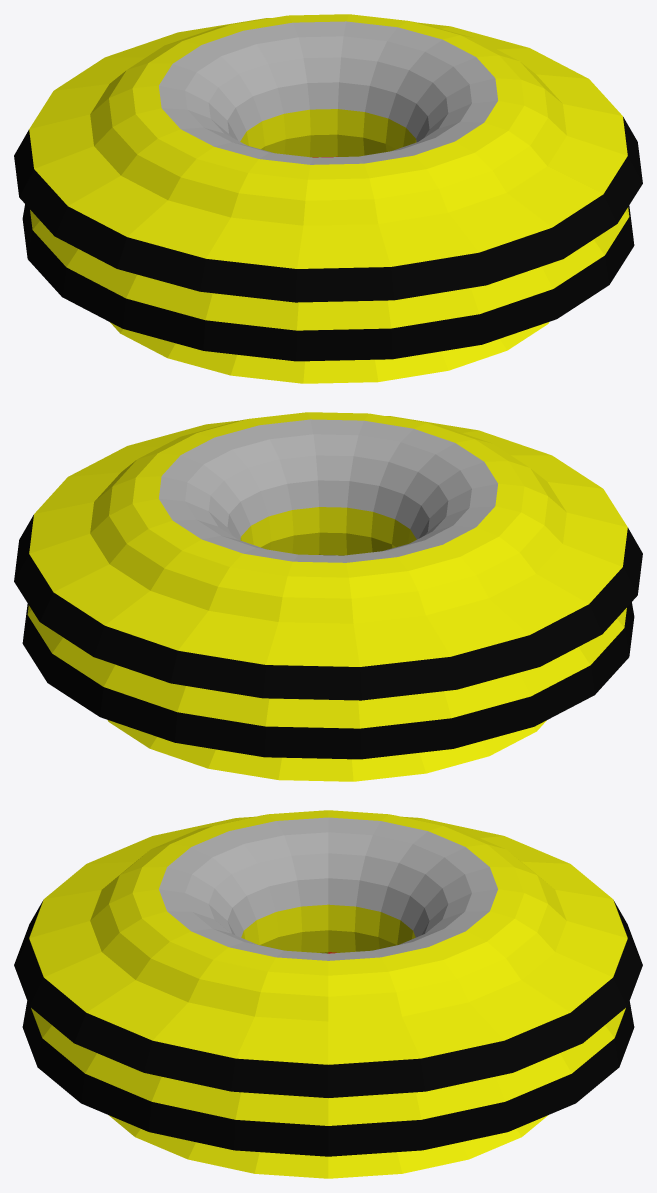
File: Spawn33.fbx
3 views of the same model, one above another, from view 1: azimuth 30°, elevation 25°; view 2: azimuth 150°, elevation 25°; view 3: azimuth 270°, elevation 25° (orthographic).
Visible parts, largest first — view 1: pTorus1; view 2: pTorus1; view 3: pTorus1.
Boxes of the visible parts, left/top/right/bottom form: pTorus1: left=14, top=14, right=642, bottom=383; pTorus1: left=14, top=412, right=642, bottom=781; pTorus1: left=14, top=810, right=642, bottom=1178.
Bounding box in the file's own units: 5.53 × 5.53 × 2.22.
